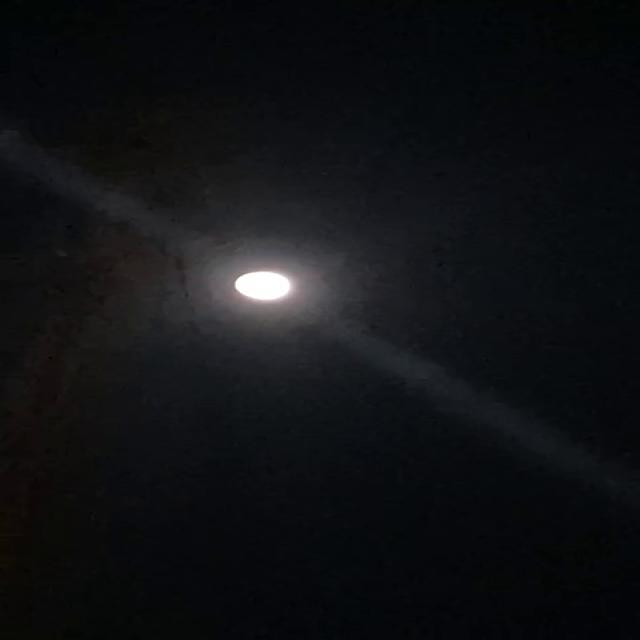moon: (212, 258, 316, 309)
